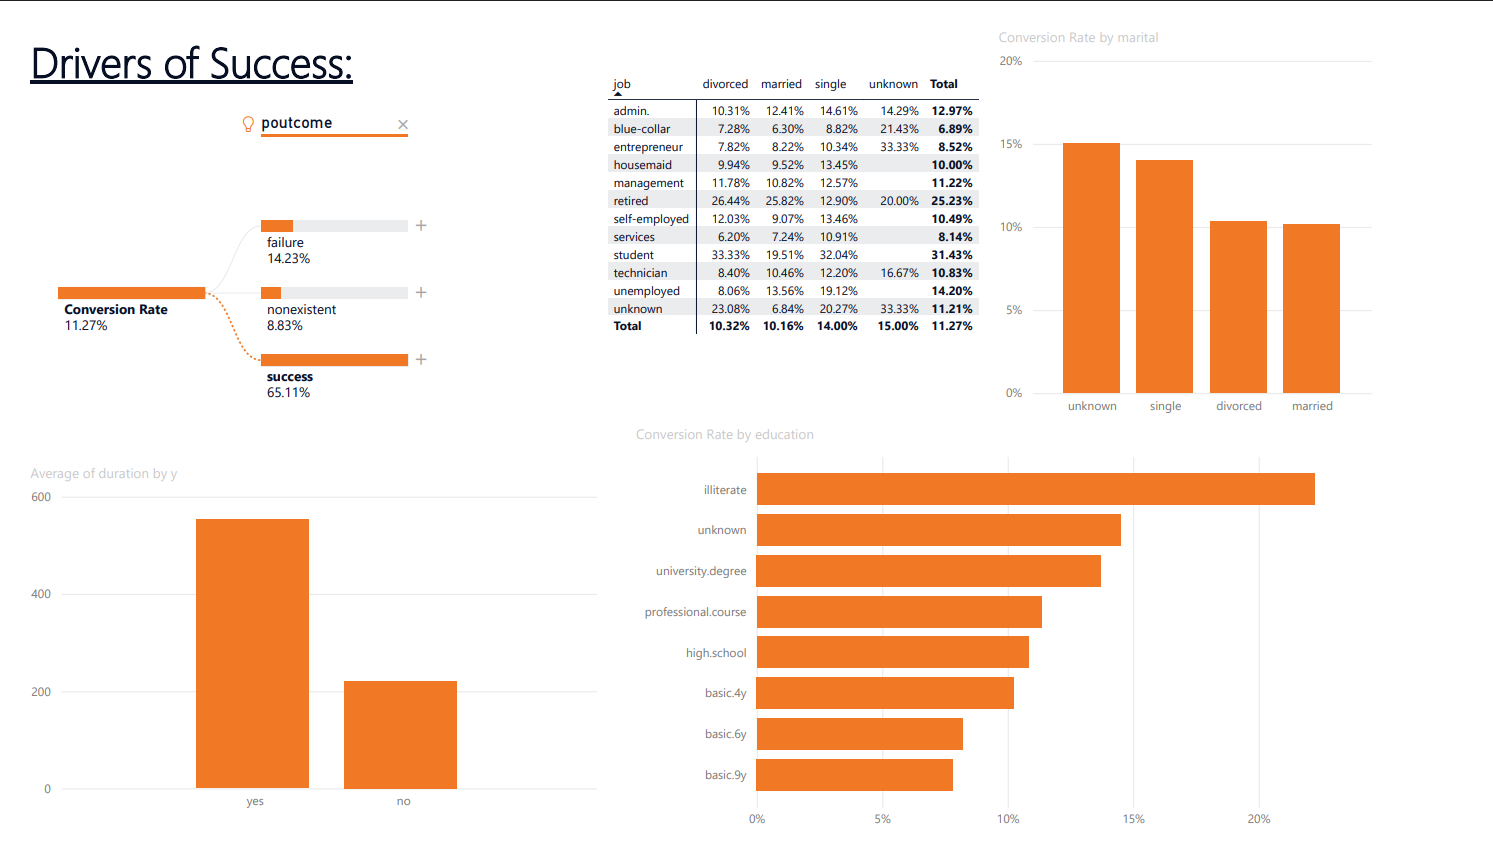

The page's visual inventory and layout, read from the dashboard file:
{"tool":"powerbi","page":{"name":"Key Influencers","canvas":[1280,720],"ordinal":2},"visuals":[{"type":"textbox","box":[0,0,315.6,60.4],"z":0},{"type":"decompositionTreeVisual","fields":{"Analyze":["Worksheet.Conversion Rate"],"ExplainBy":["Worksheet.poutcome","Worksheet.month","Worksheet.Age Group","Worksheet.education","Worksheet.contact"]},"box":[0,60.4,513.2,317],"z":1000},{"type":"clusteredColumnChart","fields":{"Category":["Worksheet.y"],"Y":["Avg(Worksheet.duration)"]},"box":[0,387,513.2,317],"z":2000},{"type":"pivotTable","fields":{"Rows":["Worksheet.job"],"Columns":["Worksheet.marital"],"Values":["Worksheet.Conversion Rate"]},"box":[513.2,35.7,347.2,367.8],"z":3000},{"type":"clusteredBarChart","fields":{"Category":["Worksheet.education"],"Y":["Worksheet.Conversion Rate"]},"box":[537.9,352.7,662.8,367.8],"z":4000},{"type":"clusteredColumnChart","fields":{"Category":["Worksheet.marital"],"Y":["Worksheet.Conversion Rate"]},"box":[860,0,341,353],"z":5000}]}

Visuals, with their boxes in screenshot pixels (x1, y1, x2, y2), scaled from the page's 1280x720 canvas onto the 1493x862 screenshot:
textbox: 0:0:368:72
decompositionTreeVisual - Worksheet.Conversion Rate x Worksheet.poutcome: 0:72:599:452
clusteredColumnChart - Worksheet.y x Avg(Worksheet.duration): 0:463:599:843
pivotTable - Worksheet.job x Worksheet.marital: 599:43:1004:483
clusteredBarChart - Worksheet.education x Worksheet.Conversion Rate: 627:422:1401:861
clusteredColumnChart - Worksheet.marital x Worksheet.Conversion Rate: 1003:0:1401:423
